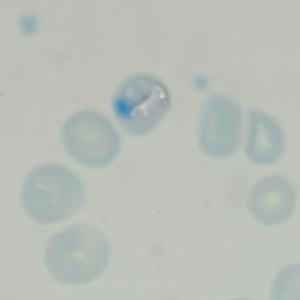erythrocyte: (43, 220, 110, 285), (19, 163, 85, 226), (110, 74, 173, 138), (59, 110, 122, 170), (195, 95, 245, 159), (246, 173, 298, 226), (245, 107, 287, 168)
